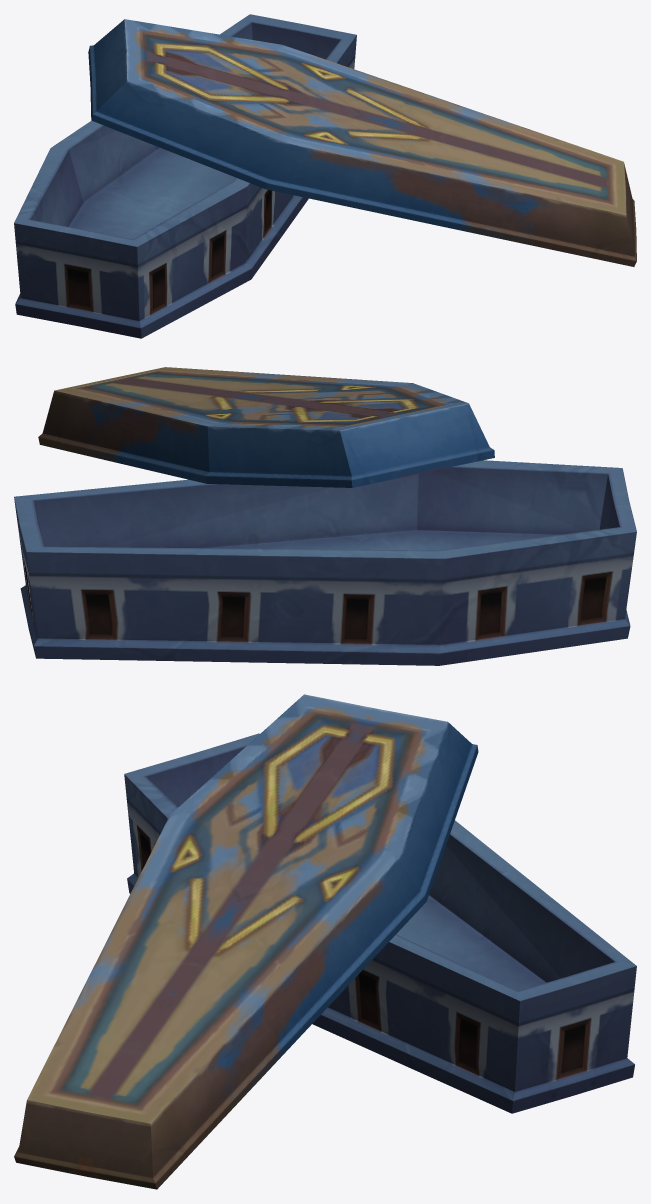
File: daoju_1.fbx
The picture shows the model from 3 angles, top to bottom: view 1: azimuth 30°, elevation 25°; view 2: azimuth 150°, elevation 25°; view 3: azimuth 270°, elevation 25°; orthographic projection. The views are drawn at different scales.
Parts seen in each view (by area): view 1: daoju_1; view 2: daoju_1; view 3: daoju_1.
Boxes of the visible parts, bbox=[...] form: daoju_1: bbox=[14, 14, 636, 338]; daoju_1: bbox=[14, 367, 636, 665]; daoju_1: bbox=[14, 694, 636, 1189].
Size of the model in its own units: 439 by 145 by 336.
